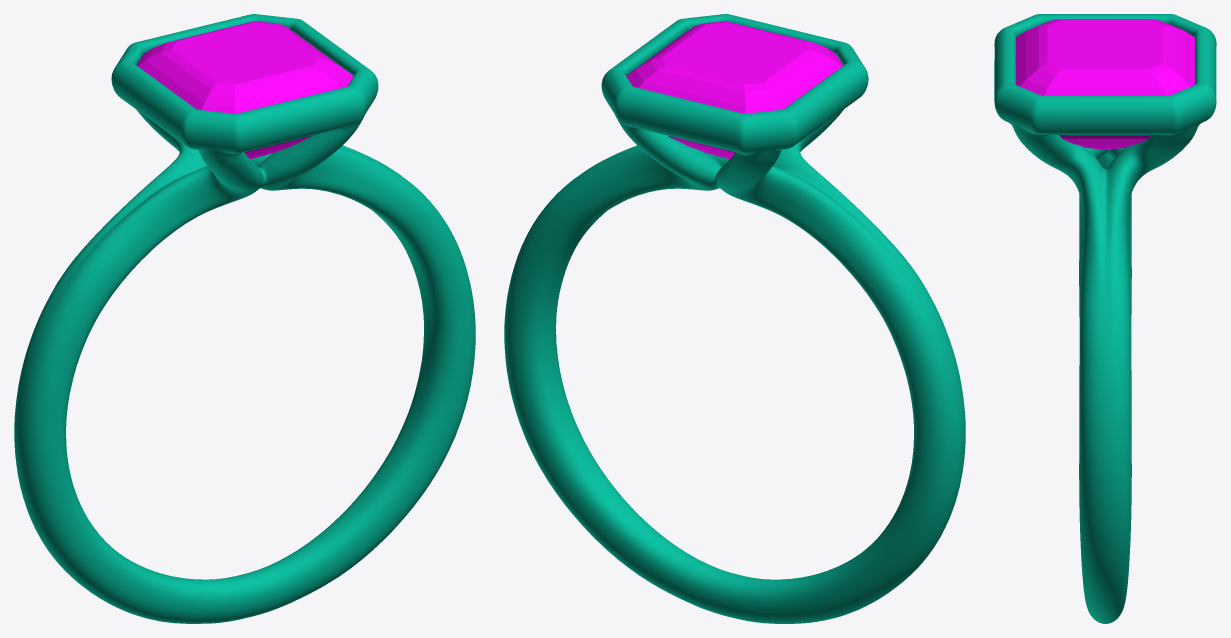
File: BE1543_AS_200ct_RENDER.glb
3 renders of one model, left to right at view 1: azimuth 30°, elevation 25°; view 2: azimuth 150°, elevation 25°; view 3: azimuth 270°, elevation 25°, orthographic.
Parts seen in each view (by area): view 1: Metal 01, CS_Diamond_Asscher; view 2: Metal 01, CS_Diamond_Asscher; view 3: Metal 01, CS_Diamond_Asscher.
Boxes of the visible parts, box(x1,y1,x2,y2) form: Metal 01: box(14, 14, 475, 623); CS_Diamond_Asscher: box(136, 21, 353, 159); Metal 01: box(504, 14, 965, 623); CS_Diamond_Asscher: box(626, 21, 843, 159); Metal 01: box(994, 14, 1216, 623); CS_Diamond_Asscher: box(1016, 19, 1194, 149).
Size of the model in its own units: 21.27 by 25.25 by 9.16.
